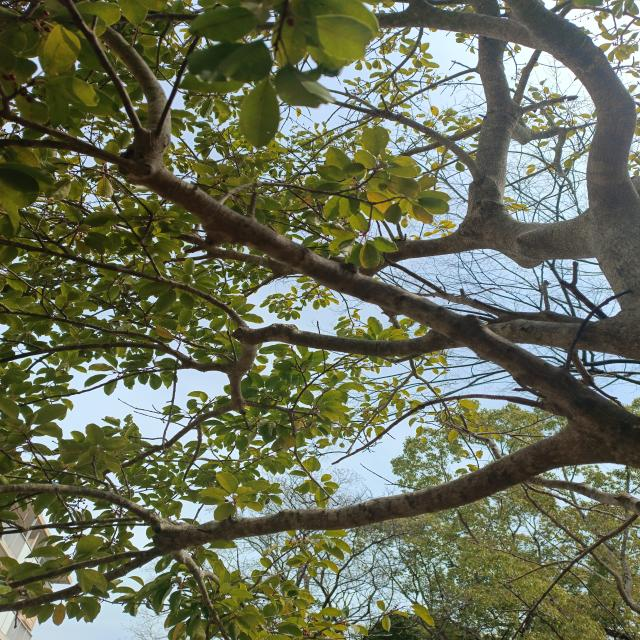Branch: (117, 146, 640, 464), (159, 429, 640, 552), (507, 0, 640, 314), (229, 316, 638, 409), (464, 0, 598, 264), (166, 7, 553, 52)
Twig: (0, 240, 249, 330), (294, 69, 475, 178), (437, 421, 640, 515), (511, 513, 639, 640), (335, 394, 558, 462), (172, 229, 483, 274), (520, 482, 627, 597), (61, 0, 144, 143), (562, 468, 640, 615), (102, 22, 173, 162), (0, 484, 175, 537), (2, 311, 183, 359), (0, 556, 154, 611), (370, 107, 486, 179), (0, 111, 132, 168), (14, 367, 187, 406), (0, 342, 228, 371), (8, 547, 169, 588), (357, 27, 424, 106), (171, 550, 229, 640), (153, 34, 199, 134), (3, 516, 141, 534), (325, 87, 378, 108), (325, 98, 351, 123), (326, 100, 371, 114)
